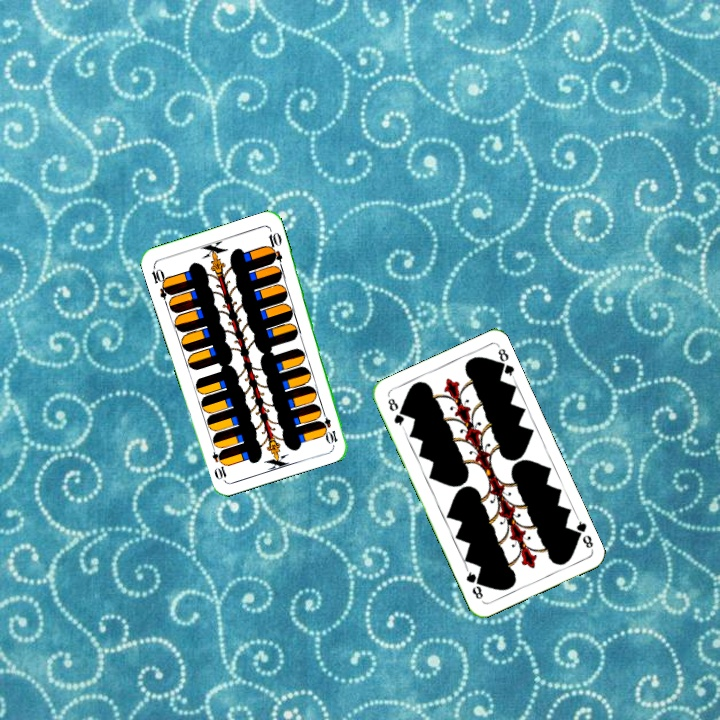E10: (147, 262, 174, 302), (318, 406, 340, 446)
G8: (569, 514, 596, 552), (384, 394, 407, 431)
